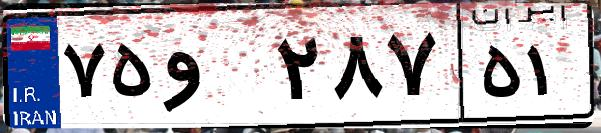1: (525, 38, 570, 115)
2: (270, 28, 330, 110)
5: (475, 38, 525, 113), (110, 28, 158, 98)
7: (385, 28, 445, 110), (57, 26, 110, 100)
8: (330, 28, 385, 110)
و: (158, 20, 270, 120)
